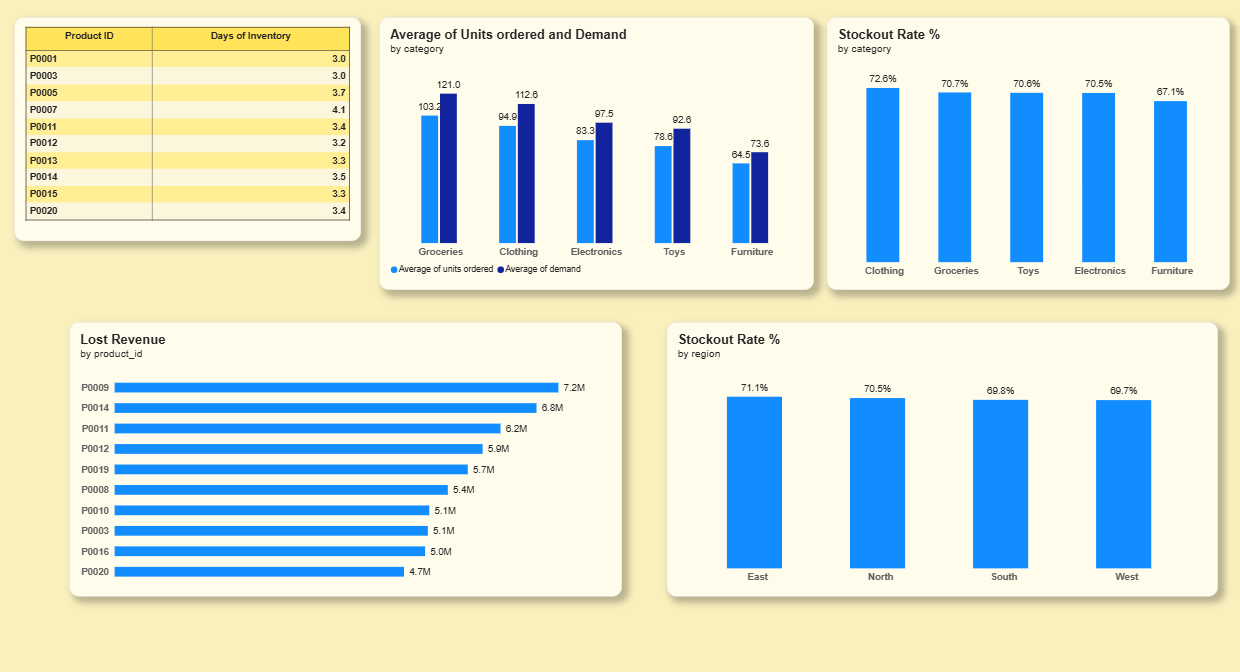

What the dashboard file says about the page in this screenshot:
{"tool":"powerbi","page":{"name":"Stock-Outs & Overstock ","canvas":[1920,1080],"ordinal":1},"visuals":[{"type":"clusteredBarChart","fields":{"Category":["Inventory.product_id"],"Y":["Inventory.Lost Revenue"]},"box":[109.3,522.2,850,422.2],"z":0},{"type":"clusteredColumnChart","fields":{"Category":["Inventory.region"],"Y":["Inventory.Stockout Rate %"]},"box":[1029.6,522.2,848.1,422.2],"z":1},{"type":"clusteredColumnChart","fields":{"Category":["Inventory.category"],"Y":["Inventory.Stockout Rate %"]},"box":[1274.1,53.7,620.4,420.4],"z":2},{"type":"tableEx","fields":{"Values":["Inventory.product_id","Inventory.Days of Inventory"]},"box":[25.9,53.7,533.3,344.4],"z":3},{"type":"clusteredColumnChart","title":"Average of Units ordered and Demand","fields":{"Category":["Inventory.category"],"Y":["Avg(Inventory.units_ordered)","Avg(Inventory.demand)"]},"box":[587,53.7,668.5,420.4],"z":4}]}

Visuals, with their boxes on the page's 1920x1080 design canvas (x1, y1, x2, y2). These are canvas units, not pixel positions in the 1240x672 screenshot, which may show the page scaled, cropped or inside an application window:
clusteredBarChart - Inventory.product_id x Inventory.Lost Revenue: left=109, top=522, right=959, bottom=944
clusteredColumnChart - Inventory.region x Inventory.Stockout Rate %: left=1030, top=522, right=1878, bottom=944
clusteredColumnChart - Inventory.category x Inventory.Stockout Rate %: left=1274, top=54, right=1894, bottom=474
tableEx - Inventory.product_id x Inventory.Days of Inventory: left=26, top=54, right=559, bottom=398
"Average of Units ordered and Demand" clusteredColumnChart: left=587, top=54, right=1256, bottom=474
